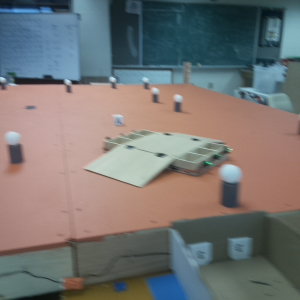obstacle: (221, 166, 241, 209), (4, 128, 26, 164), (173, 94, 186, 114), (61, 79, 77, 94), (138, 75, 150, 90), (106, 76, 119, 89), (151, 88, 160, 106), (1, 78, 12, 92)
side: (183, 149, 234, 164), (99, 127, 151, 141)
slope: (90, 145, 171, 185), (165, 125, 221, 144)
